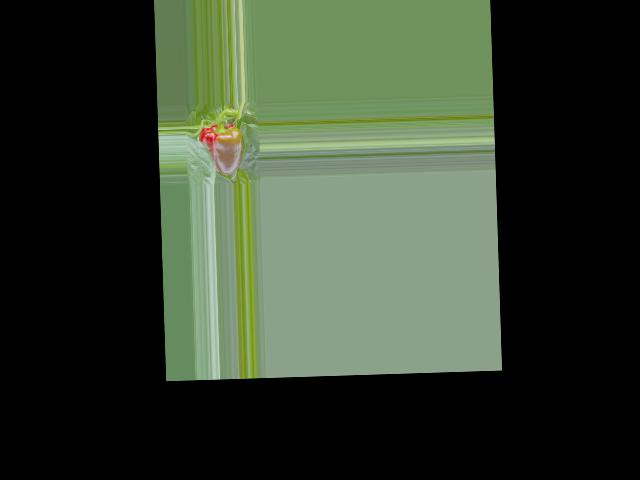bell_pepper: (196, 116, 249, 178)
